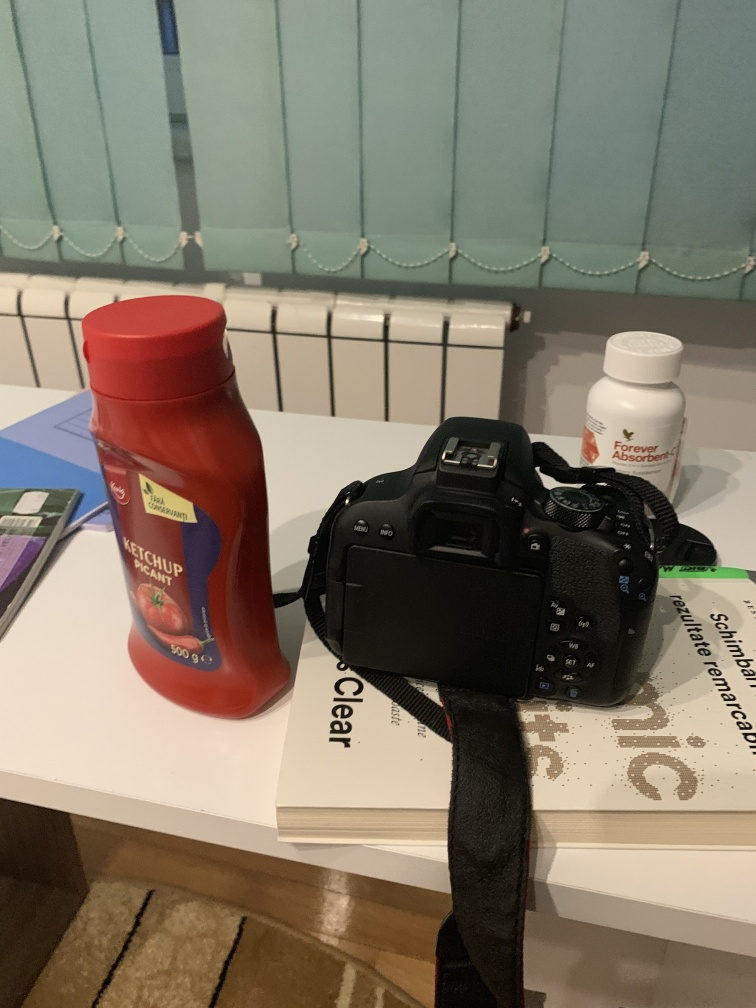ketchup: (77, 292, 297, 725)
